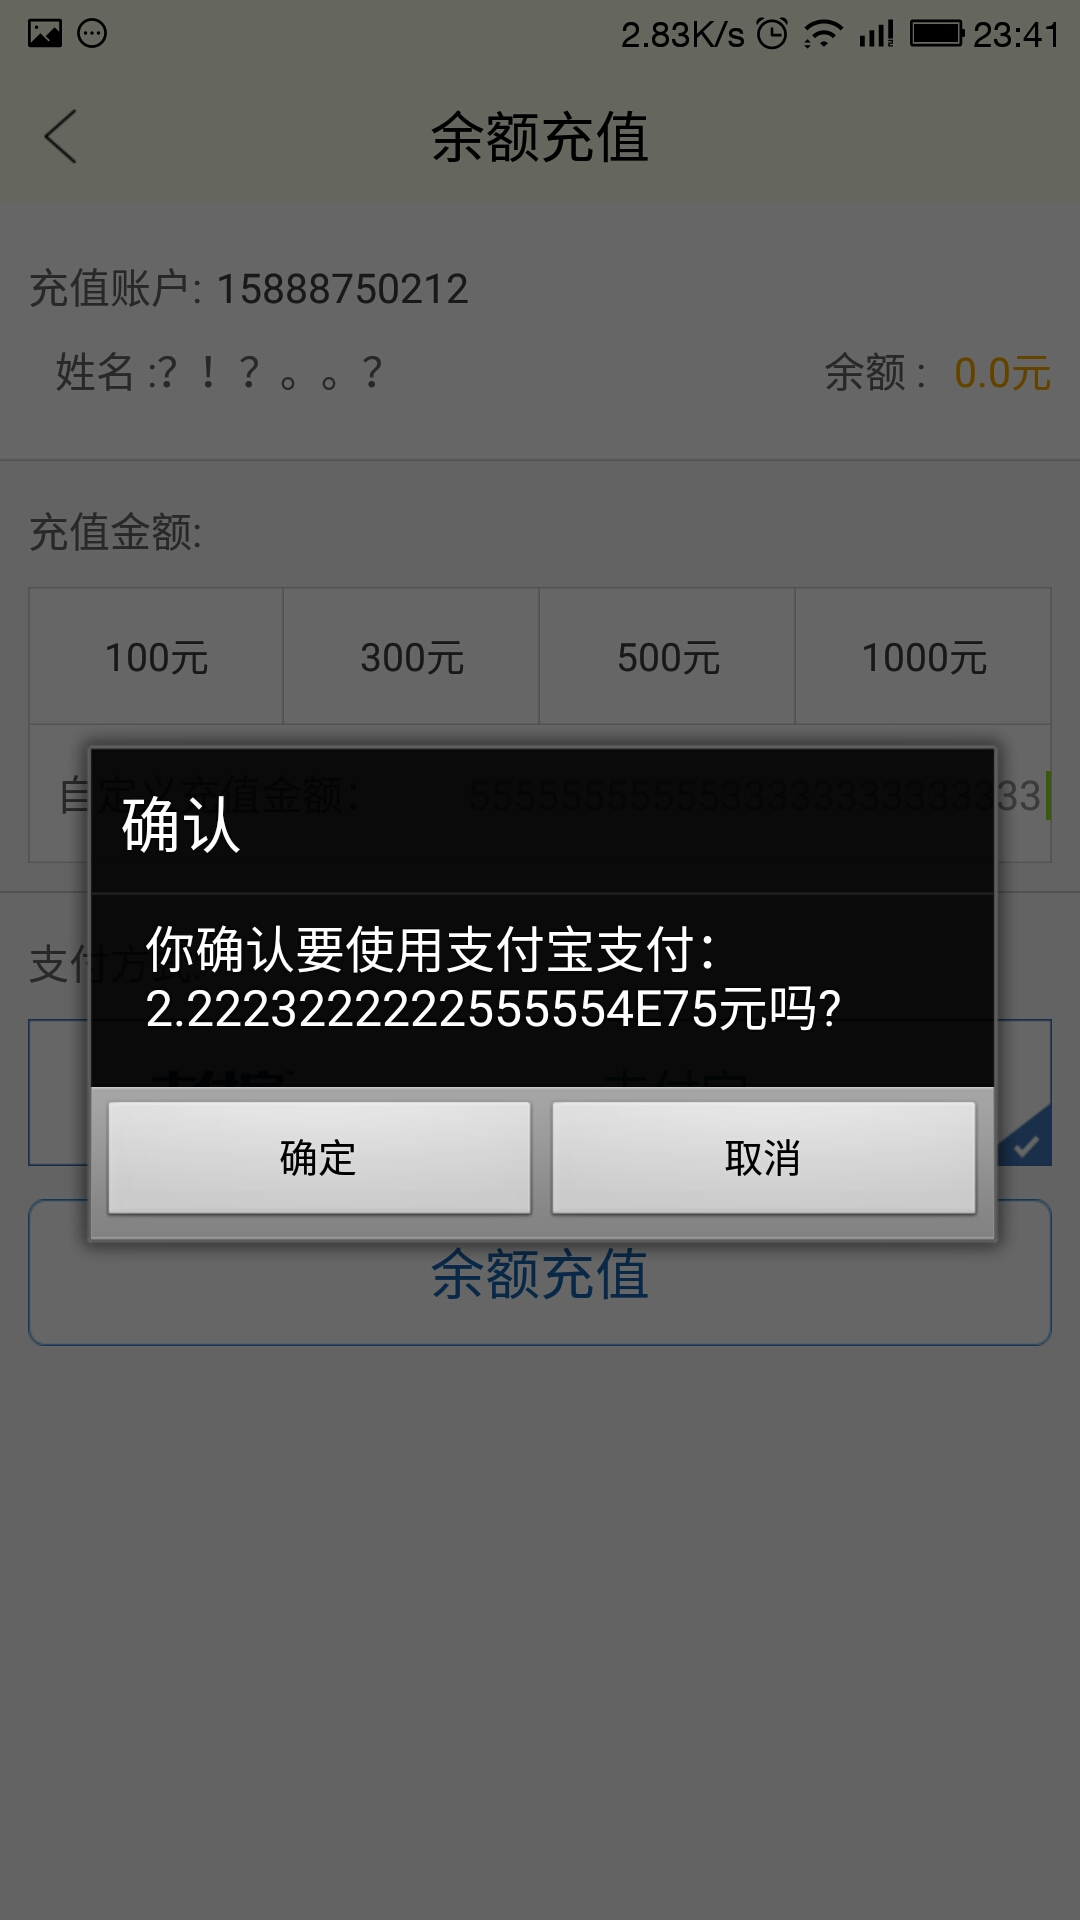alert: (80, 731, 1010, 1257)
button: (96, 1092, 547, 1226), (543, 1092, 984, 1226)
textview: (145, 906, 855, 1063)
